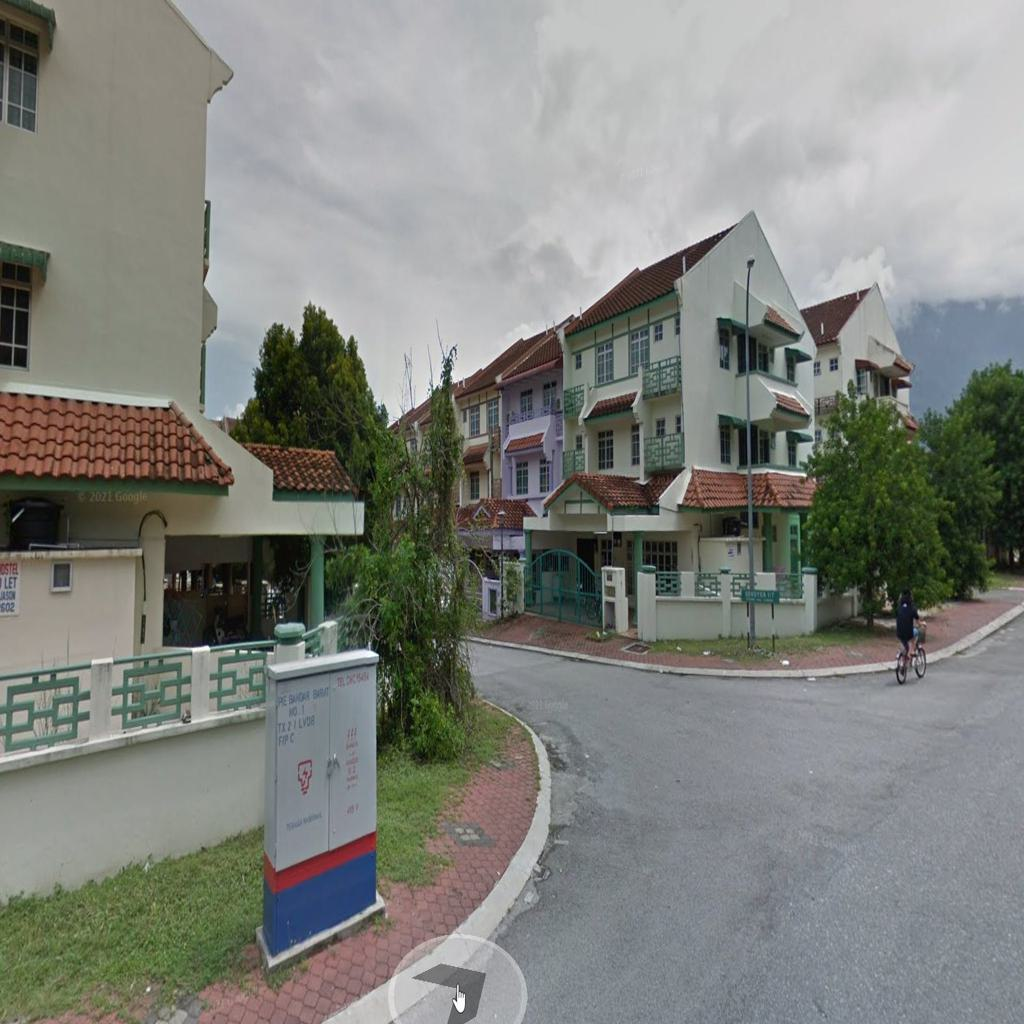Junction: (482, 630, 894, 903)
